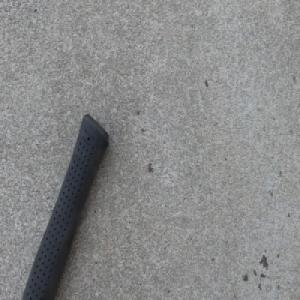Hammer: (15, 108, 110, 300)
